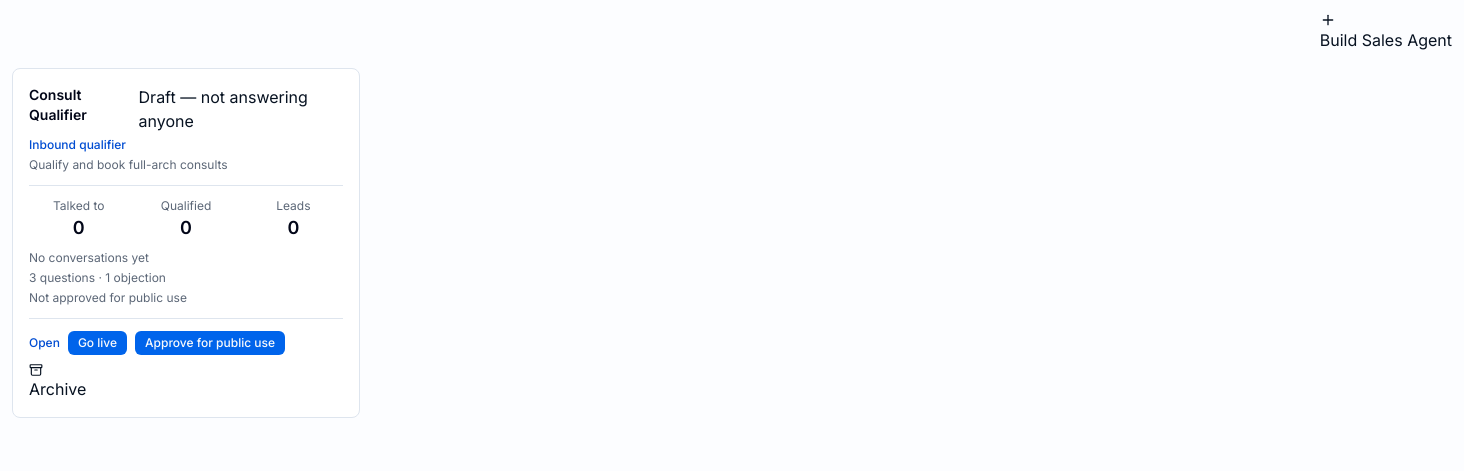
it: putting an agent live › writes the new status when an agent is put live
This screenshot has width=1464, height=471.
Click the button "Go live": (98,343) [68,331,127,355]
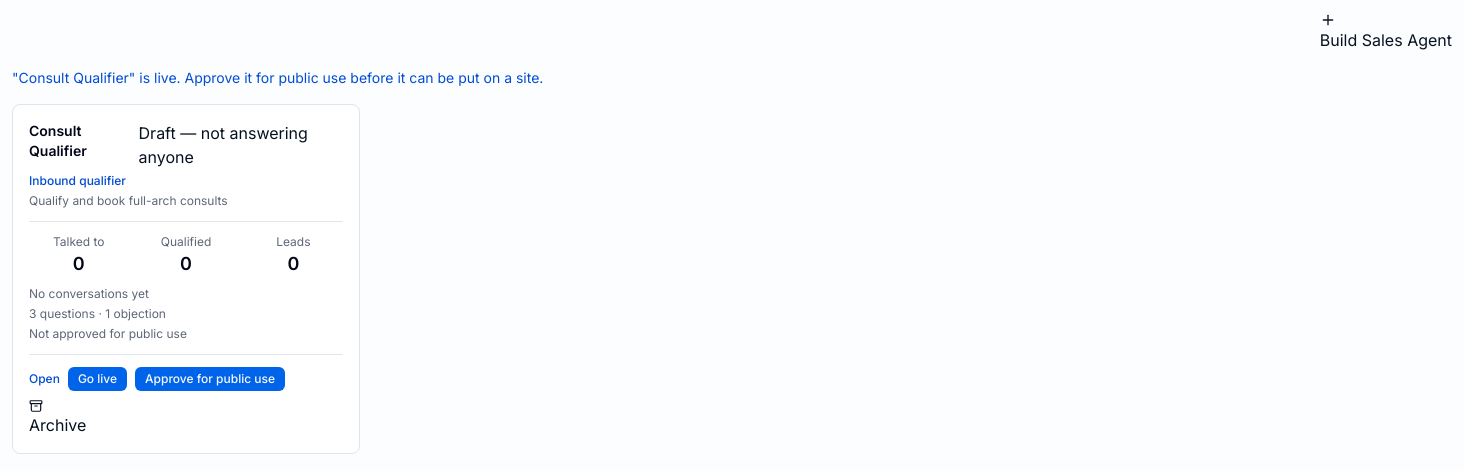
expect the text "is live" is shown: met, box [12,69,543,86]
